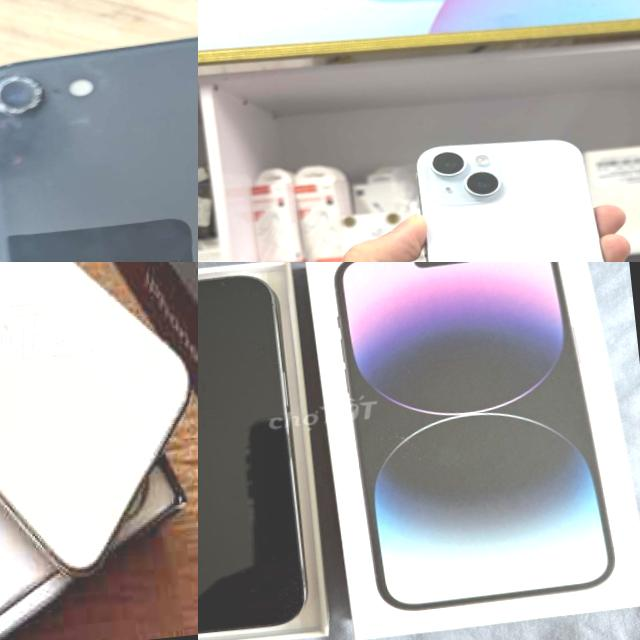gen_11: (0, 262, 198, 604)
gen_14: (198, 270, 322, 640)
gen_15: (415, 129, 640, 262)
gen_7_8: (0, 21, 198, 262)
scratch: (0, 51, 120, 128)
